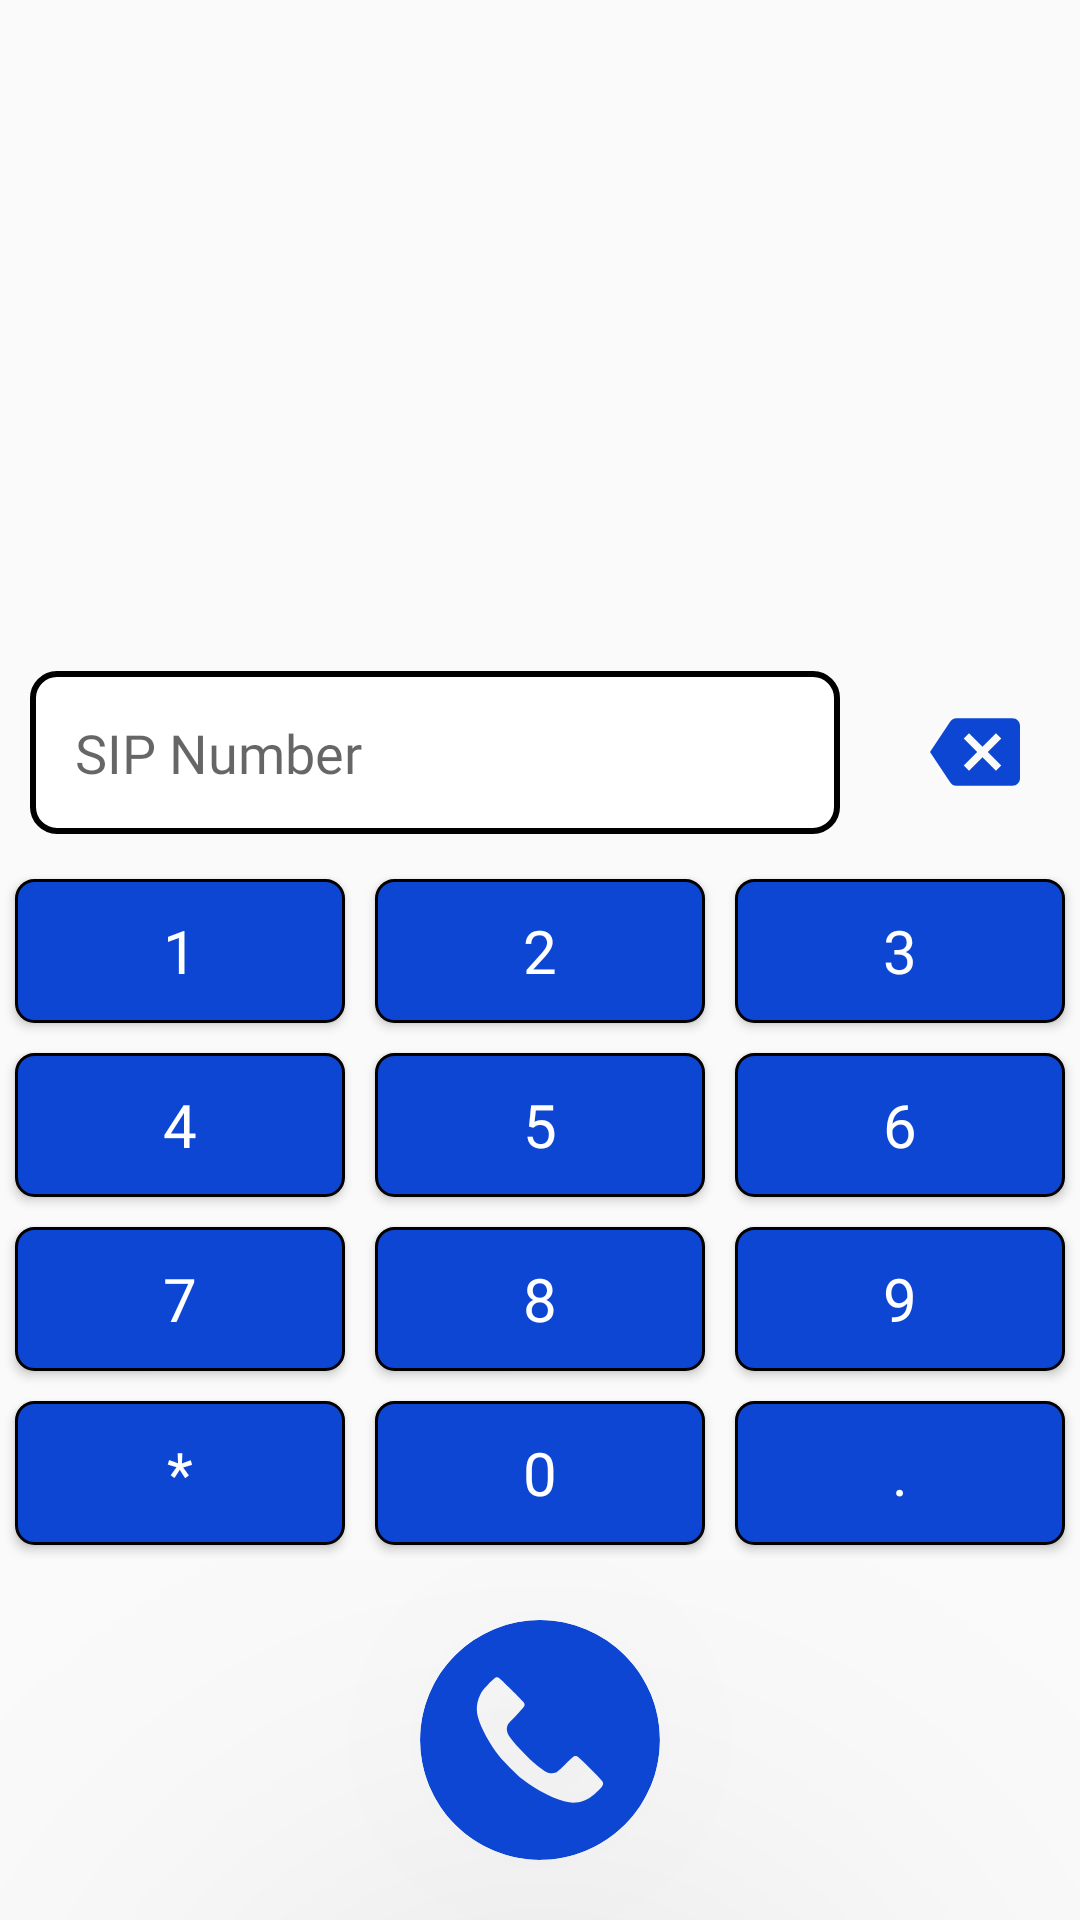

Named icons in this screenshot (1080px x 1920px) and their centers, (x,y):
backspace: (975,752)
phone call: (540,1740)
